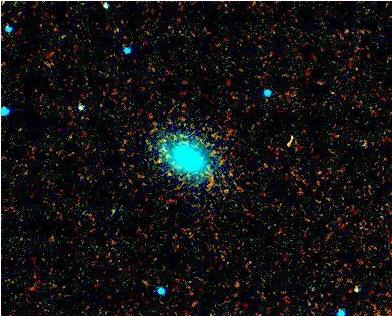star: (145, 145, 175, 175)
